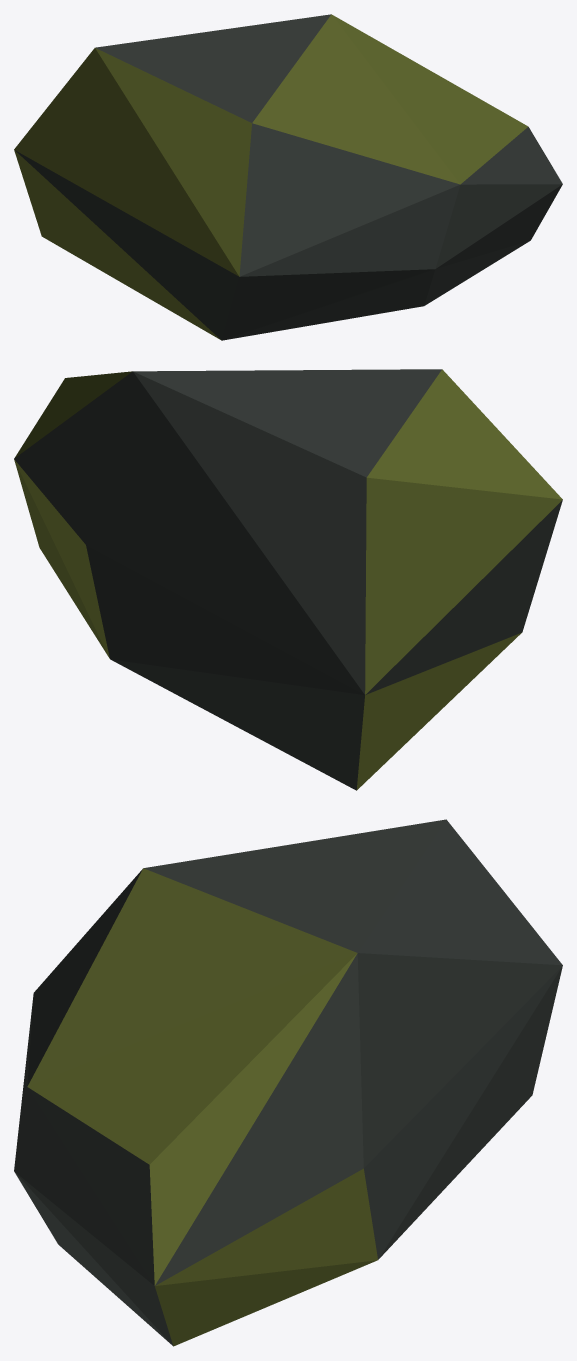
File: ore_uranium_v03_lod2.glb
3 views of the same model, one above another, from view 1: azimuth 30°, elevation 25°; view 2: azimuth 150°, elevation 25°; view 3: azimuth 270°, elevation 25° (orthographic). The views are drawn at different scales.
Parts seen in each view (by area): view 1: ore_uranium_v03_lod2; view 2: ore_uranium_v03_lod2; view 3: ore_uranium_v03_lod2.
Boxes of the visible parts, box(x1,y1,x2,y2) form: ore_uranium_v03_lod2: box(14, 14, 562, 340); ore_uranium_v03_lod2: box(14, 369, 562, 790); ore_uranium_v03_lod2: box(14, 819, 562, 1346).
Bounding box in the file's own units: 2.08 × 1.04 × 1.72.
